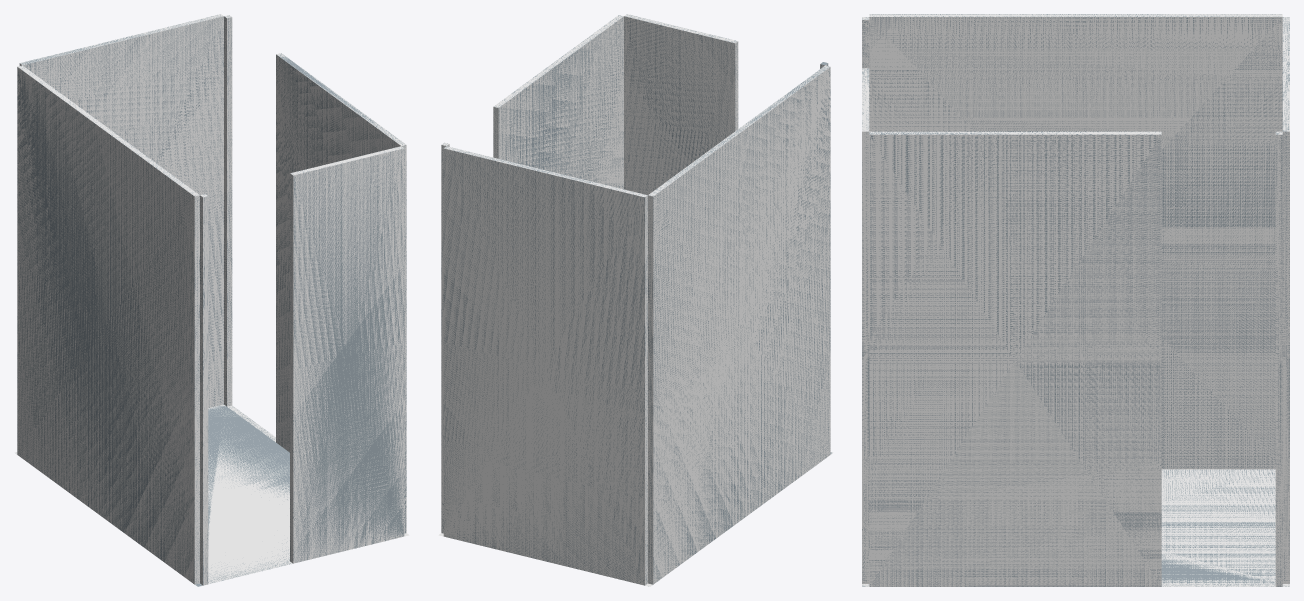
File: Raum6.fbx
3 renders of one model, left to right at view 1: azimuth 30°, elevation 25°; view 2: azimuth 150°, elevation 25°; view 3: azimuth 270°, elevation 25°, orthographic. The views are drawn at different scales.
Parts seen in each view (by area): view 1: Model; view 2: Model; view 3: Model.
Part boxes in pixels (x1,y1,x2,y2): Model: [14, 14, 409, 586]; Model: [438, 14, 833, 586]; Model: [862, 14, 1289, 586].
Bounding box in the file's own units: 2 × 3.5 × 3.
